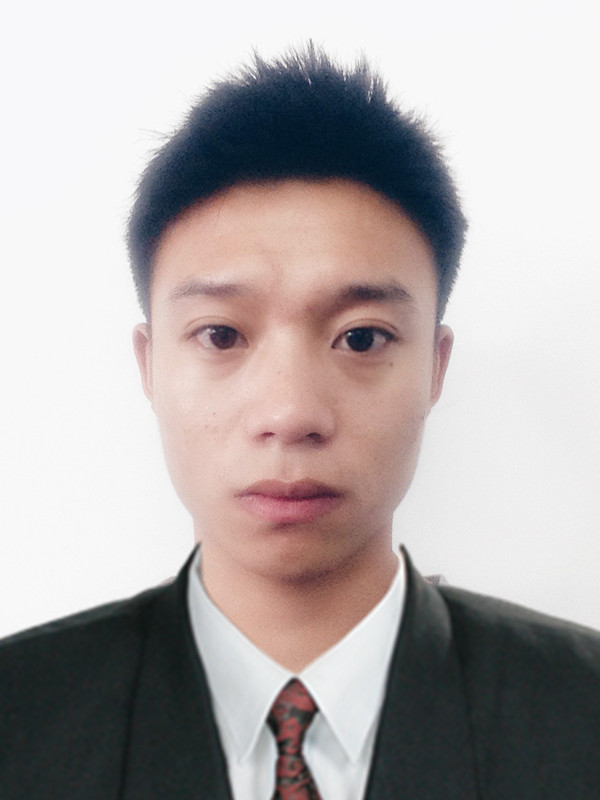unmask: (153, 222, 433, 578)
